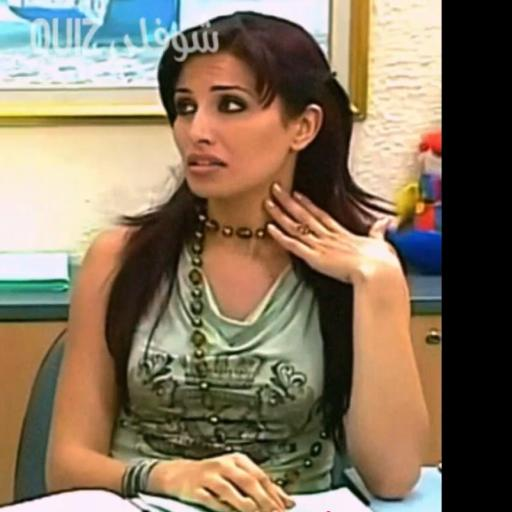Dalanda: (172, 53, 322, 207)
